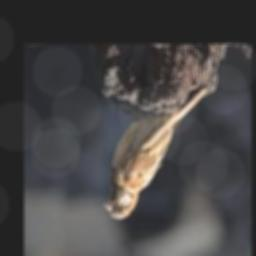Sparrow: (103, 86, 209, 221)
